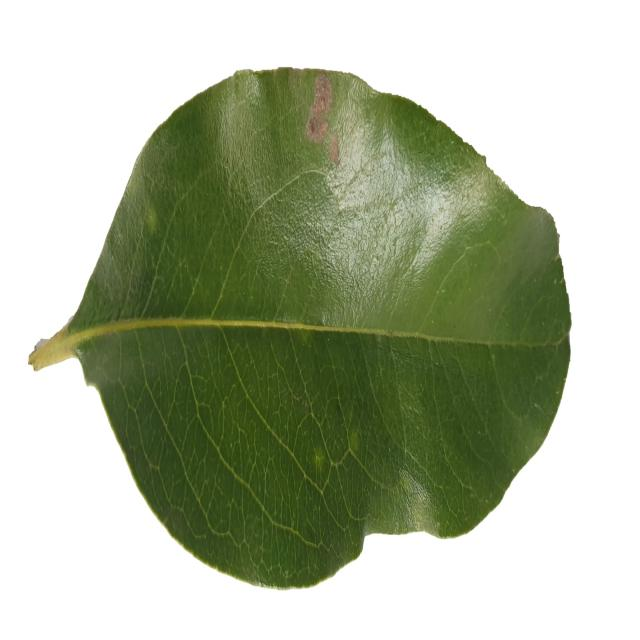Medicinal-Sandalwood: (30, 64, 571, 588)
